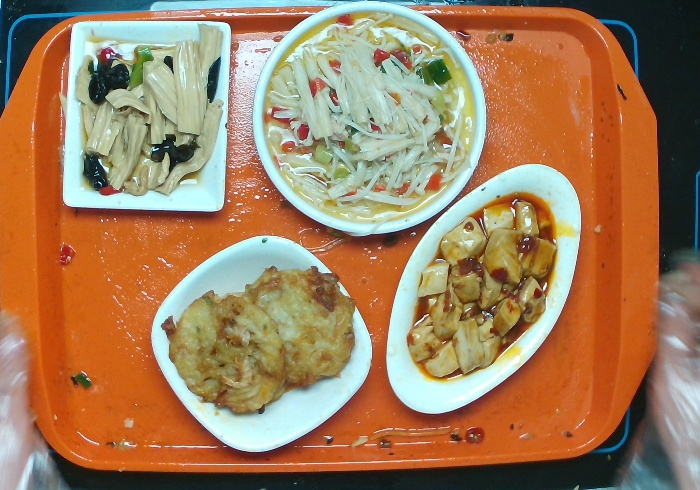HZYJPL-Si_Fang_Die: (62, 19, 232, 213)
HZYJPL-Si_Fang_Yuan_Die: (149, 233, 373, 453)
HZYJPL-Xiao_Yu_Die: (384, 162, 583, 415)
HZYJPL-Xiao_Yuan_Die: (251, 1, 487, 235)
